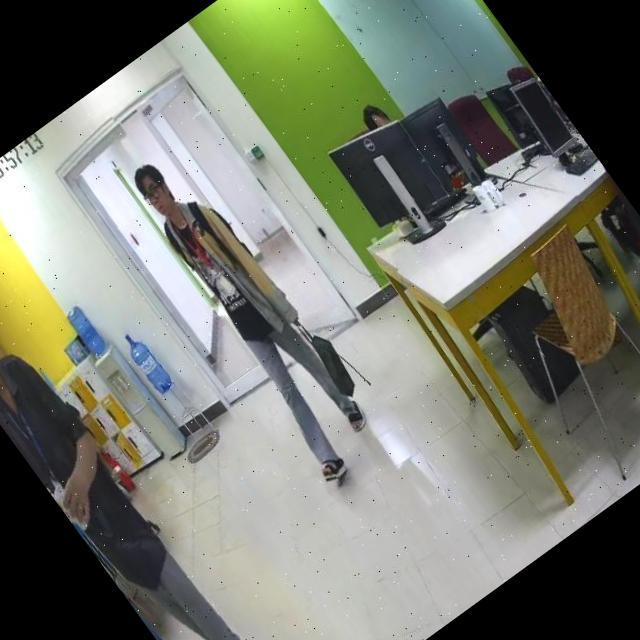person: (0, 260, 327, 640), (114, 143, 384, 480)
